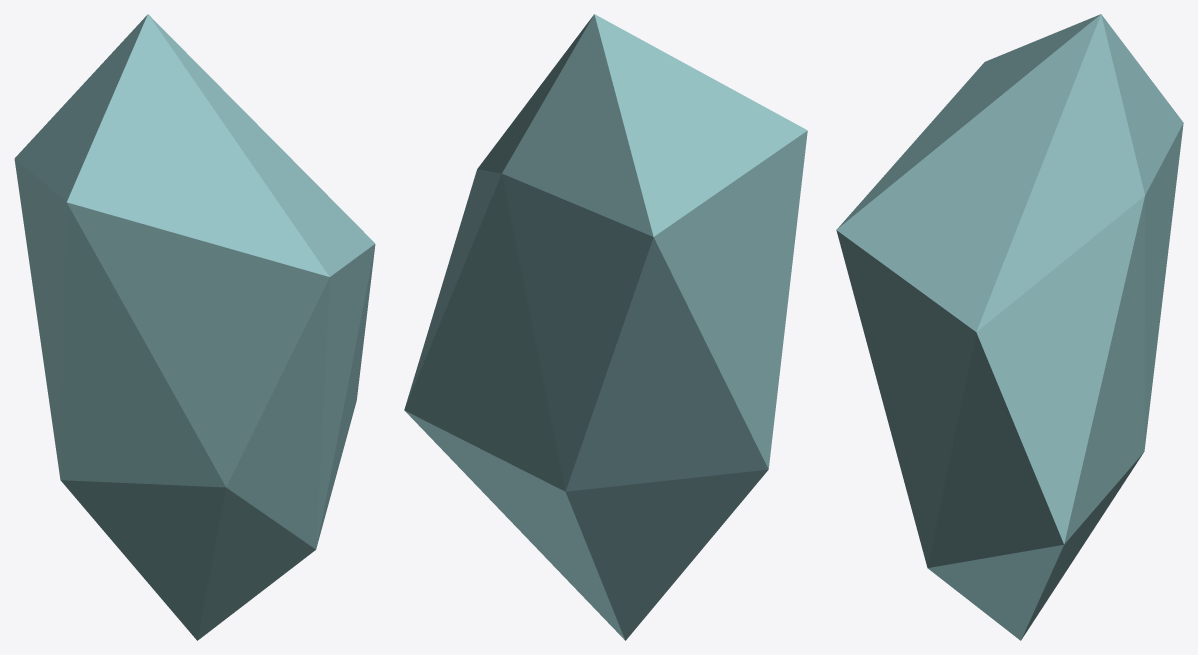
Rendered from kamen 2.fbx.
3 views of the same model, side by side, from view 1: azimuth 30°, elevation 25°; view 2: azimuth 150°, elevation 25°; view 3: azimuth 270°, elevation 25° (orthographic). The views are drawn at different scales.
Parts seen in each view (by area): view 1: Icosphere.001; view 2: Icosphere.001; view 3: Icosphere.001.
Part boxes in pixels (x1,y1,x2,y2): Icosphere.001: (14, 14, 375, 640); Icosphere.001: (404, 14, 807, 640); Icosphere.001: (836, 14, 1183, 640).
Bounding box in the file's own units: 516 × 902 × 457.
